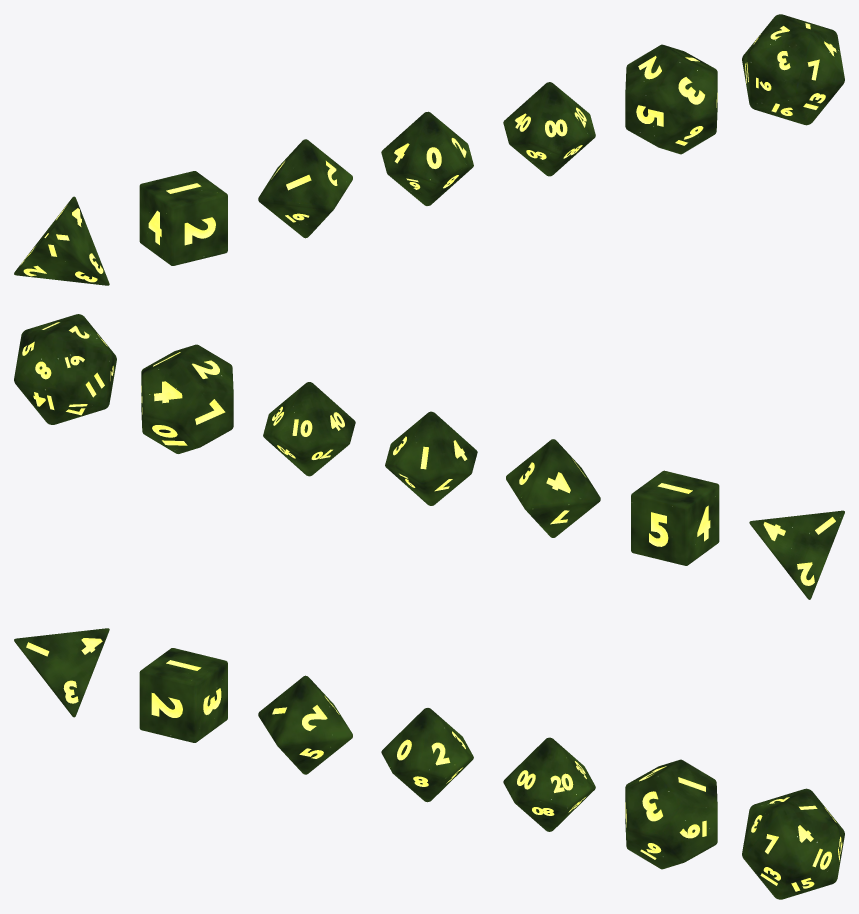
File: toxic-sludge.glb
3 renders of one model, top to bottom at view 1: azimuth 30°, elevation 25°; view 2: azimuth 150°, elevation 25°; view 3: azimuth 330°, elevation 25°, orthographic.
Visible parts, largest first — view 1: d20, d12, d6, d100, d10, d8, d4; view 2: d20, d12, d6, d100, d10, d8, d4; view 3: d20, d12, d6, d8, d10, d100, d4.
Boxes of the visible parts, bbox=[...] form: d20: bbox=[742, 14, 844, 125]; d12: bbox=[625, 44, 717, 154]; d6: bbox=[139, 171, 227, 265]; d100: bbox=[503, 82, 595, 176]; d10: bbox=[381, 111, 473, 205]; d8: bbox=[258, 139, 352, 238]; d4: bbox=[14, 196, 109, 285]; d20: bbox=[14, 314, 116, 424]; d12: bbox=[141, 344, 233, 453]; d6: bbox=[631, 470, 719, 565]; d100: bbox=[263, 382, 355, 476]; d10: bbox=[385, 411, 477, 505]; d8: bbox=[506, 439, 600, 537]; d4: bbox=[749, 510, 844, 599]; d20: bbox=[742, 788, 844, 899]; d12: bbox=[625, 759, 717, 869]; d6: bbox=[139, 648, 227, 742]; d8: bbox=[258, 675, 352, 774]; d10: bbox=[381, 708, 473, 802]; d100: bbox=[503, 737, 595, 831]; d4: bbox=[14, 628, 109, 717].
Bounding box in the file's own units: 21.14 × 2.46 × 2.46.
Materials: 14 (7 with a texture image).
